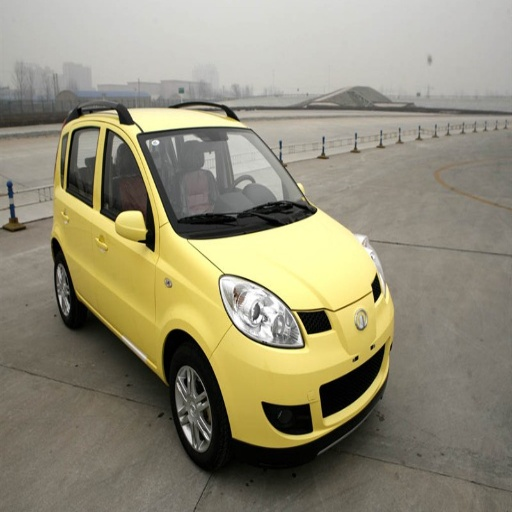front_bumper: (208, 285, 394, 445)
front_right_door: (95, 124, 153, 354)
front_right_light: (219, 274, 304, 348)
